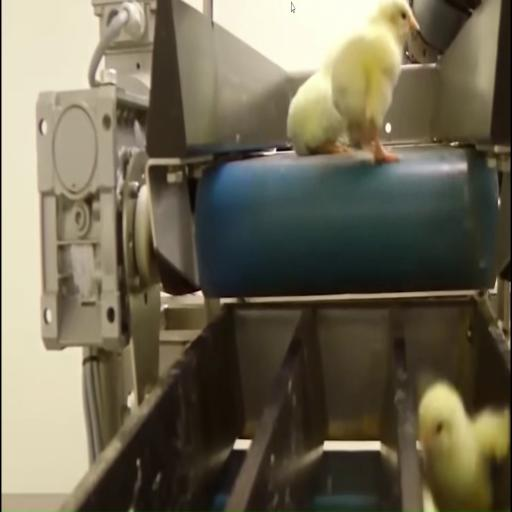chick: (331, 0, 419, 162), (418, 381, 510, 511), (287, 59, 347, 155)
